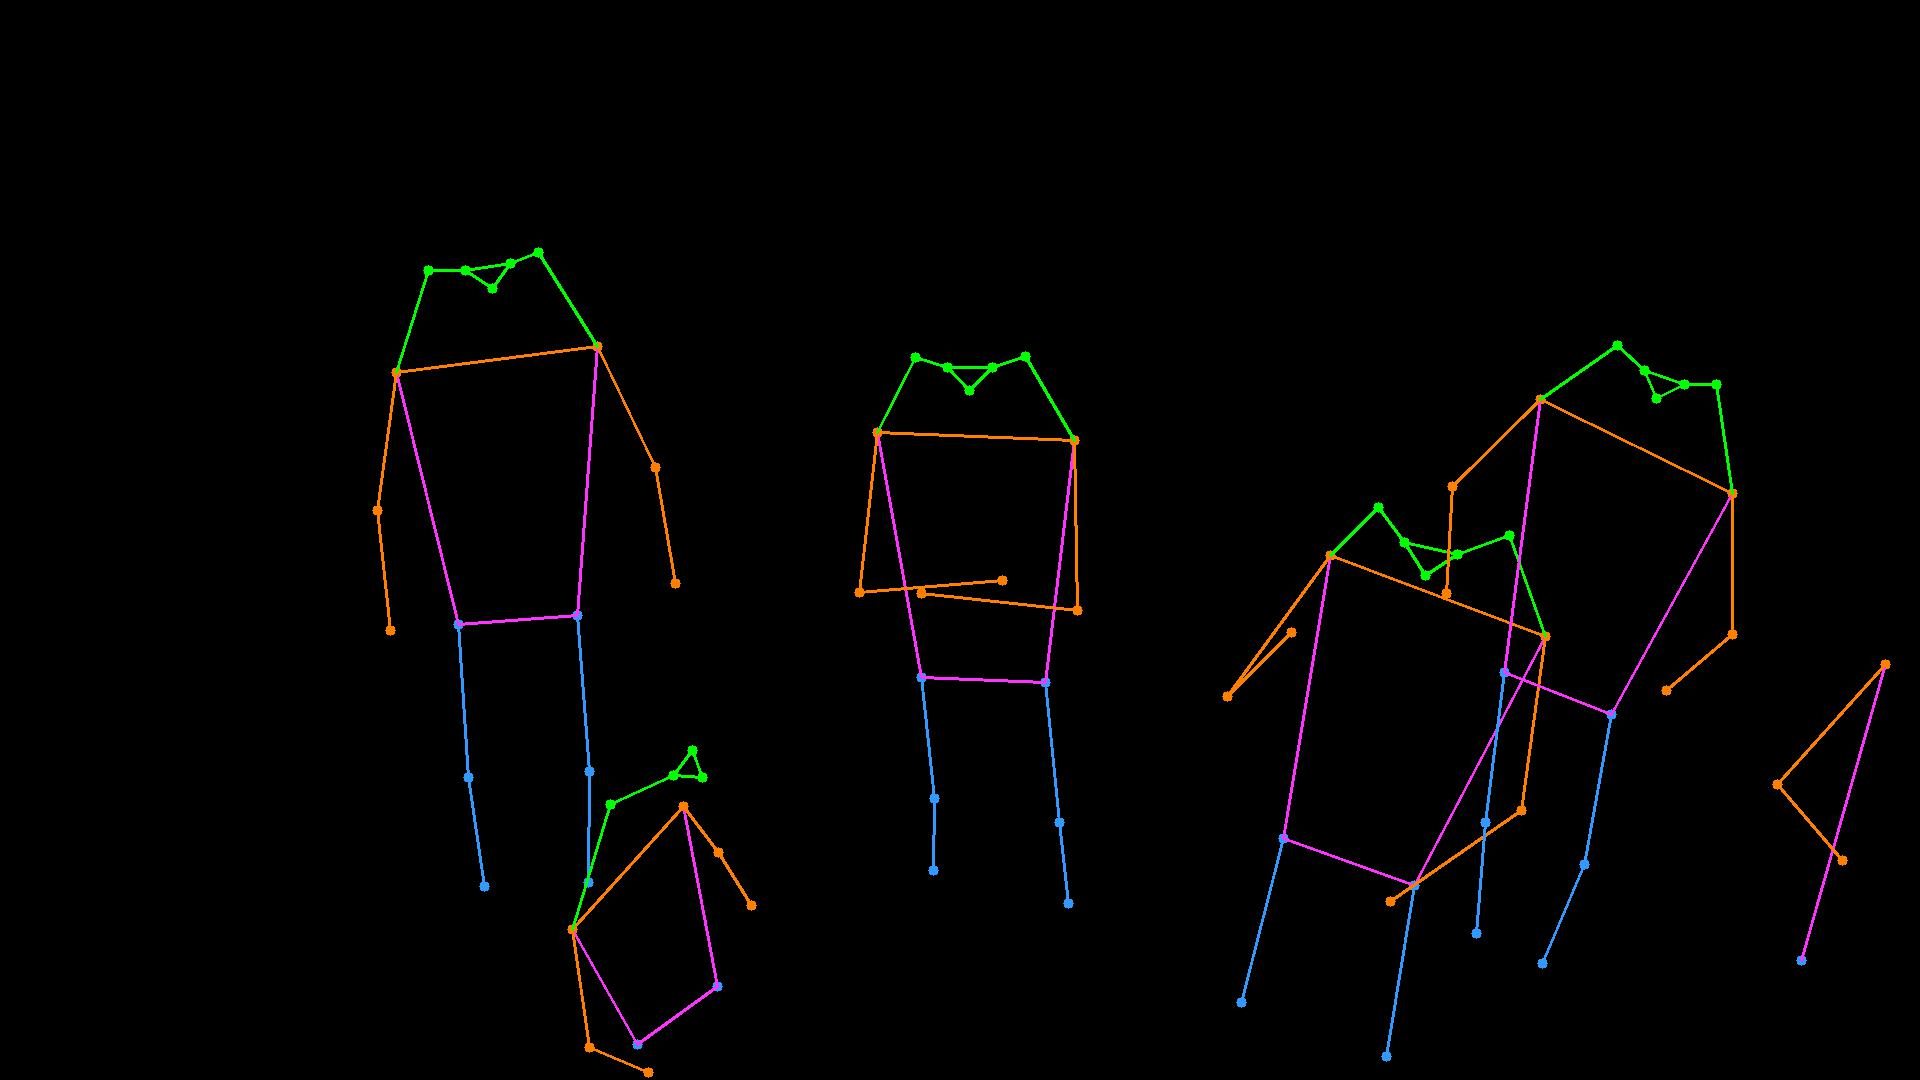normal: (1193, 295, 1764, 1077), (349, 248, 683, 916), (822, 313, 1104, 920), (526, 738, 766, 1080)
